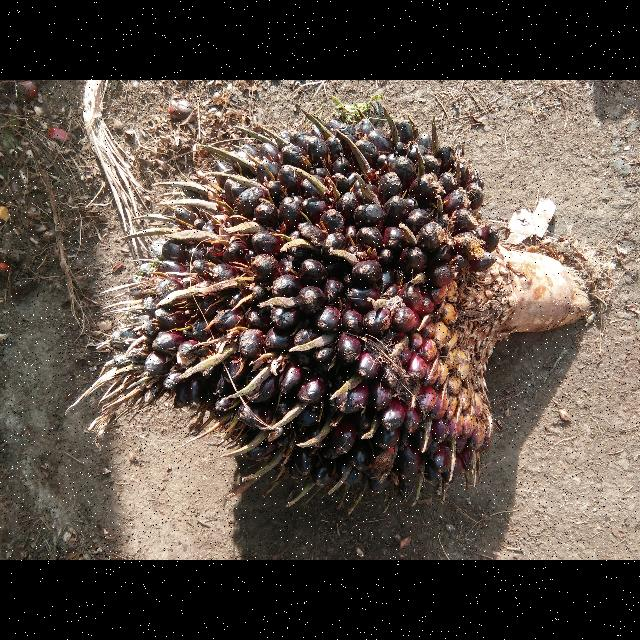Unripe: (106, 126, 493, 485)
